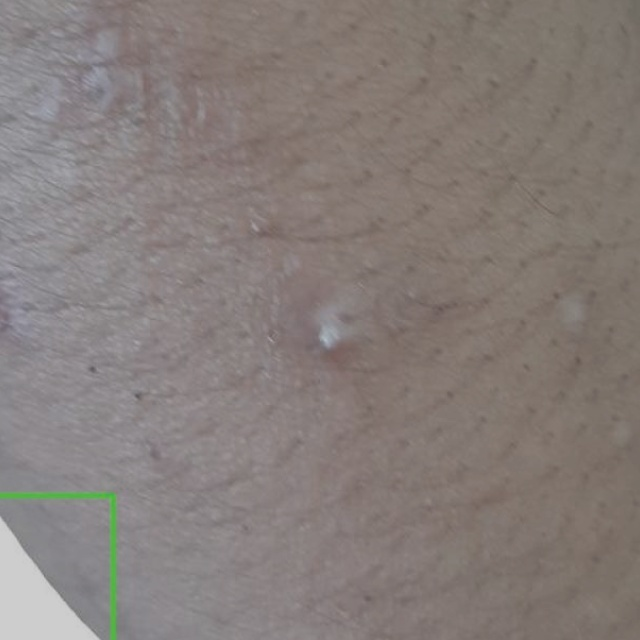Scabies: (0, 495, 114, 639)
